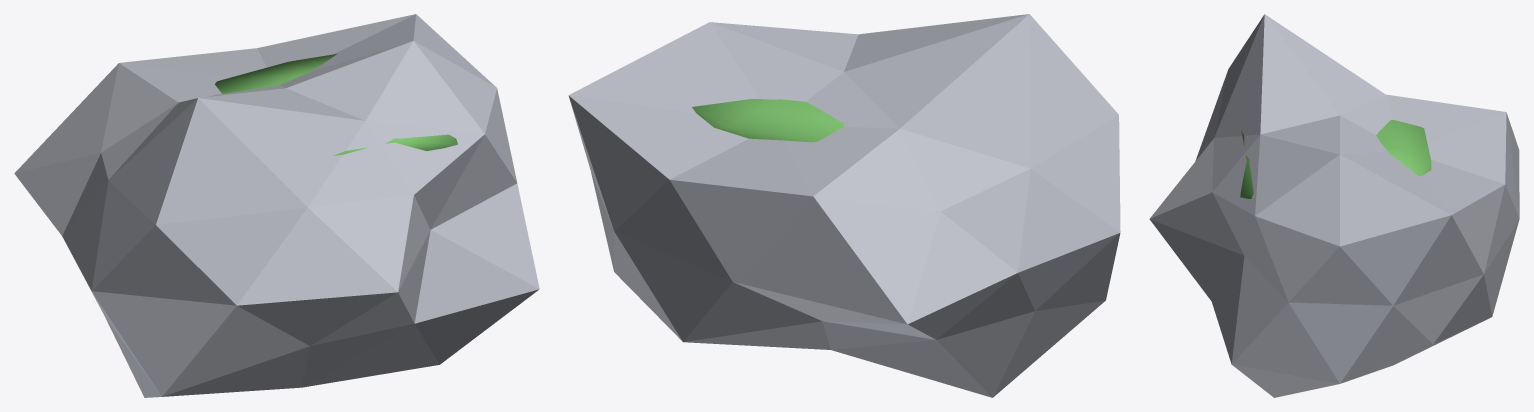
The model's file is rock_a.fbx.
3 renders of one model, left to right at view 1: azimuth 30°, elevation 25°; view 2: azimuth 150°, elevation 25°; view 3: azimuth 270°, elevation 25°, orthographic. The views are drawn at different scales.
Parts seen in each view (by area): view 1: Rock_rock_a, Moss_rock_a; view 2: Rock_rock_a, Moss_rock_a; view 3: Rock_rock_a, Moss_rock_a.
Boxes of the visible parts, x1,y1,x2,y2 form: Rock_rock_a: [14, 14, 539, 397]; Moss_rock_a: [215, 53, 457, 155]; Rock_rock_a: [568, 14, 1120, 397]; Moss_rock_a: [692, 99, 844, 142]; Rock_rock_a: [1149, 14, 1519, 397]; Moss_rock_a: [1240, 120, 1431, 198].
Bounding box in the file's own units: 2.58 × 1.84 × 2.19.
